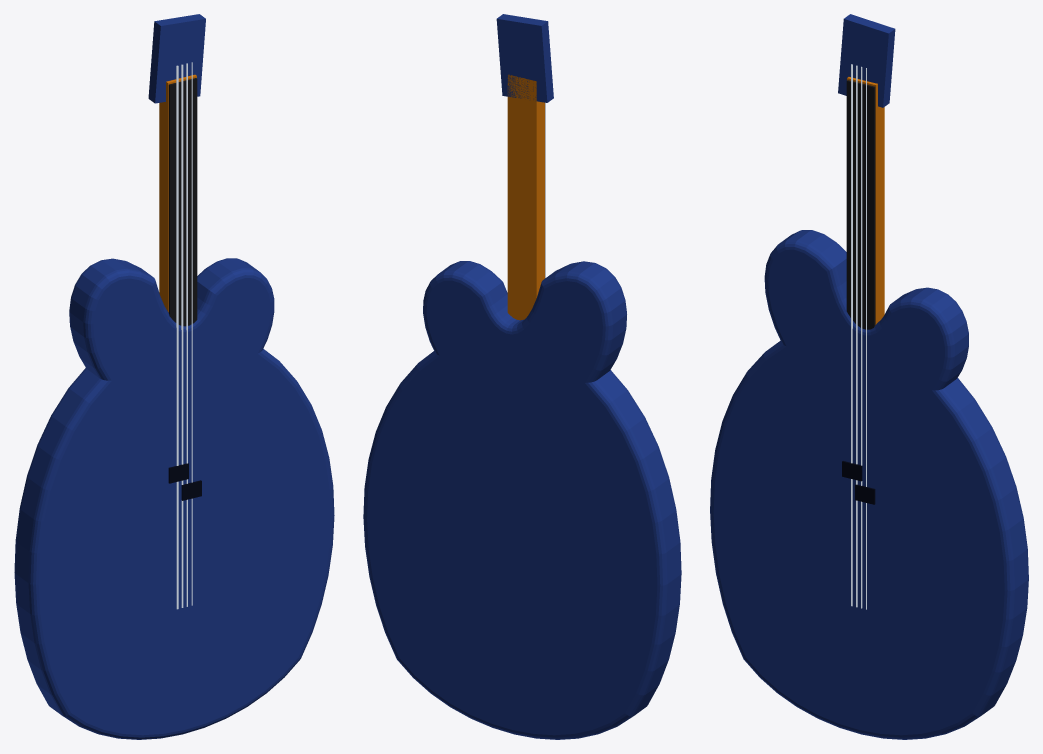
The model's file is bass.glb.
3 views of the same model, side by side, from view 1: azimuth 30°, elevation 25°; view 2: azimuth 150°, elevation 25°; view 3: azimuth 330°, elevation 25° (orthographic).
Visible parts, largest first — view 1: Bass_Body, object 3, object 4, object 2, object 7, object 8, object 10, object 9; view 2: Bass_Body, object 2, object 4; view 3: Bass_Body, object 3, object 4, object 2, object 7, object 8, object 9, object 10.
Boxes of the visible parts, <box> form: Bass_Body: <box>14,258,334,739</box>; object 3: <box>168,78,197,326</box>; object 4: <box>148,14,205,103</box>; object 2: <box>159,74,196,312</box>; object 7: <box>176,65,178,609</box>; object 8: <box>181,64,183,607</box>; object 10: <box>191,62,192,605</box>; object 9: <box>186,63,187,606</box>; Bass_Body: <box>363,261,681,739</box>; object 2: <box>507,74,544,320</box>; object 4: <box>496,14,553,102</box>; Bass_Body: <box>710,230,1028,739</box>; object 3: <box>846,80,875,329</box>; object 4: <box>838,14,895,107</box>; object 2: <box>847,77,884,324</box>; object 7: <box>851,64,852,606</box>; object 8: <box>856,65,857,607</box>; object 9: <box>861,66,862,608</box>; object 10: <box>866,68,866,609</box>.
Bounding box in the file's own units: 1.88 × 4.2 × 0.23.
